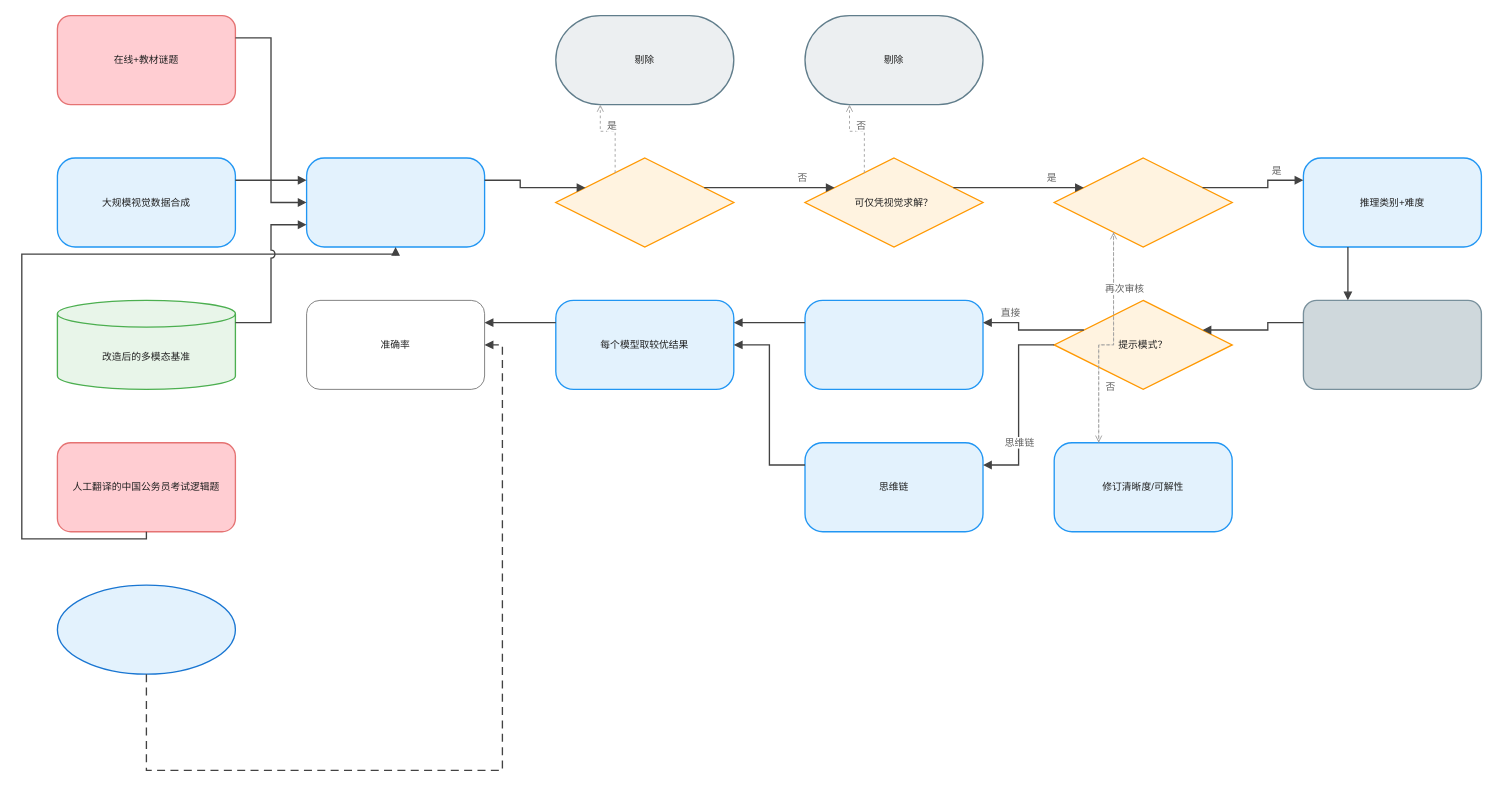
Some shapes in this 1498 by 794 pixel diagram are drawn without their labels. Each missing label, with the centre of its shape:
"70名学生人类基线" belongs at (146,629).
"人工审核通过？" belongs at (1142,202).
"发布 · 1,168道四选题" belongs at (1392,344).
"直接回答" belongs at (893,344).
"统一为四选一" belongs at (395,202).
"需要高等/领域知识？" belongs at (644,202).
